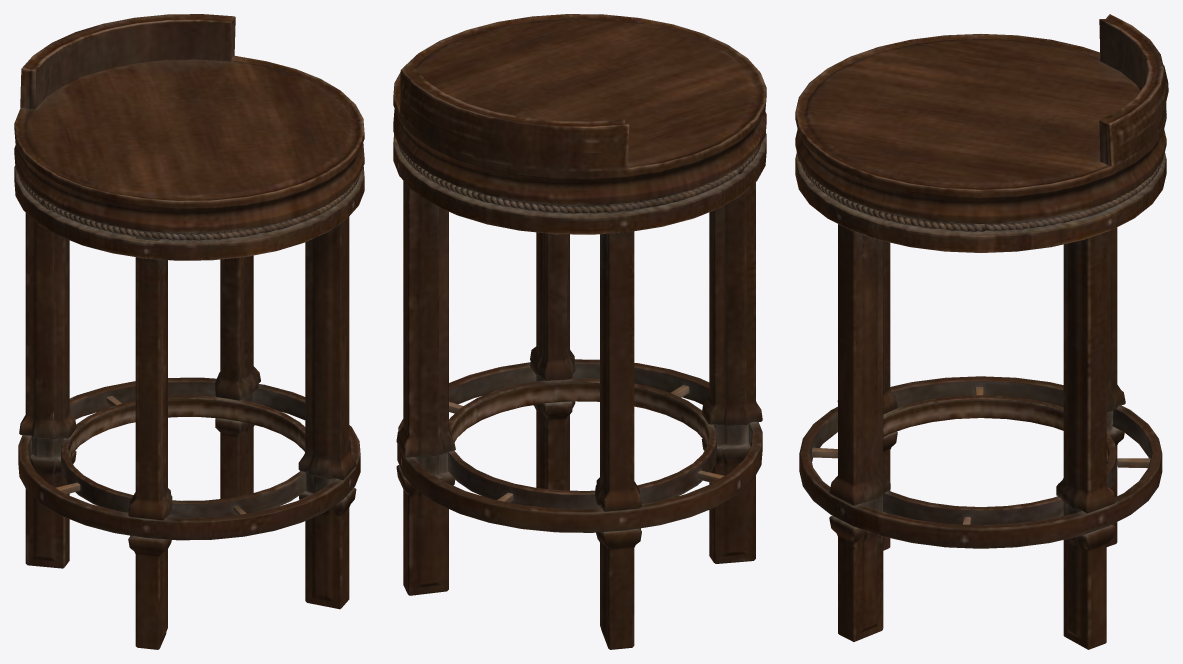
File: bar_chair_round_01.glb
3 renders of one model, left to right at view 1: azimuth 30°, elevation 25°; view 2: azimuth 150°, elevation 25°; view 3: azimuth 270°, elevation 25°, orthographic. The views are drawn at different scales.
Parts seen in each view (by area): view 1: bar_chair_round_01; view 2: bar_chair_round_01; view 3: bar_chair_round_01.
Part boxes in pixels (x1,y1,x2,y2): bar_chair_round_01: [14, 14, 364, 649]; bar_chair_round_01: [393, 14, 766, 649]; bar_chair_round_01: [795, 14, 1168, 649].
Bounding box in the file's own units: 0.4832 × 0.7505 × 0.486.
Materials: 1 (1 with a texture image).
